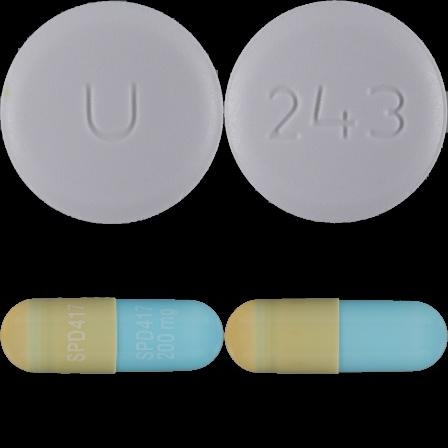29300-243: (0, 0, 224, 224)
